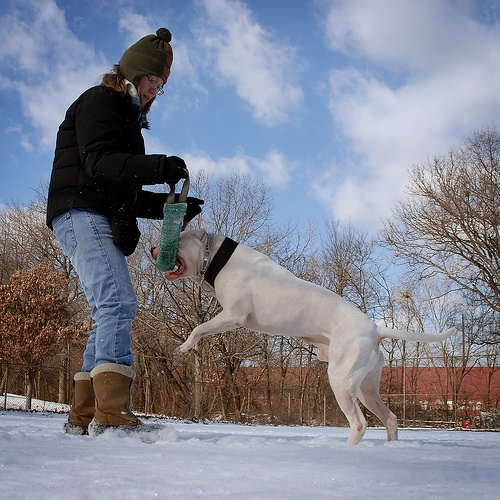head: (113, 28, 174, 110)
person: (45, 22, 189, 432)
